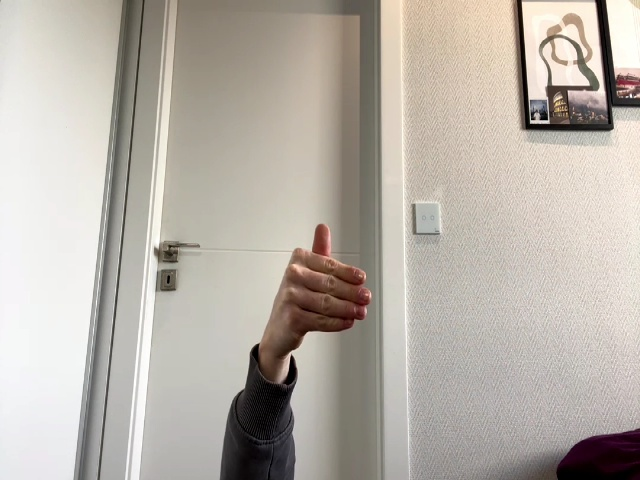M: (272, 224, 372, 347)
